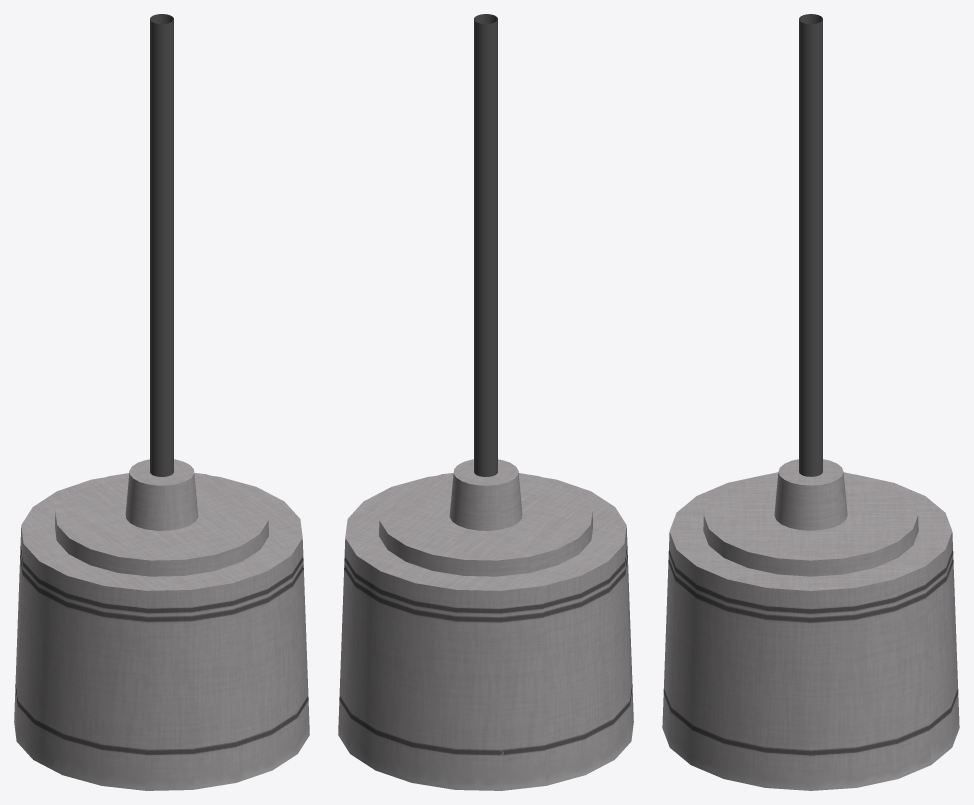
Rendered from Ceiling_Light.fbx.
3 renders of one model, left to right at view 1: azimuth 30°, elevation 25°; view 2: azimuth 150°, elevation 25°; view 3: azimuth 270°, elevation 25°, orthographic.
Parts seen in each view (by area): view 1: Ceiling_Light; view 2: Ceiling_Light; view 3: Ceiling_Light.
Part boxes in pixels (x1,y1,x2,y2): Ceiling_Light: (14,14,309,790); Ceiling_Light: (338,14,633,790); Ceiling_Light: (662,14,959,790).
Bounding box in the file's own units: 70 × 184 × 70.
